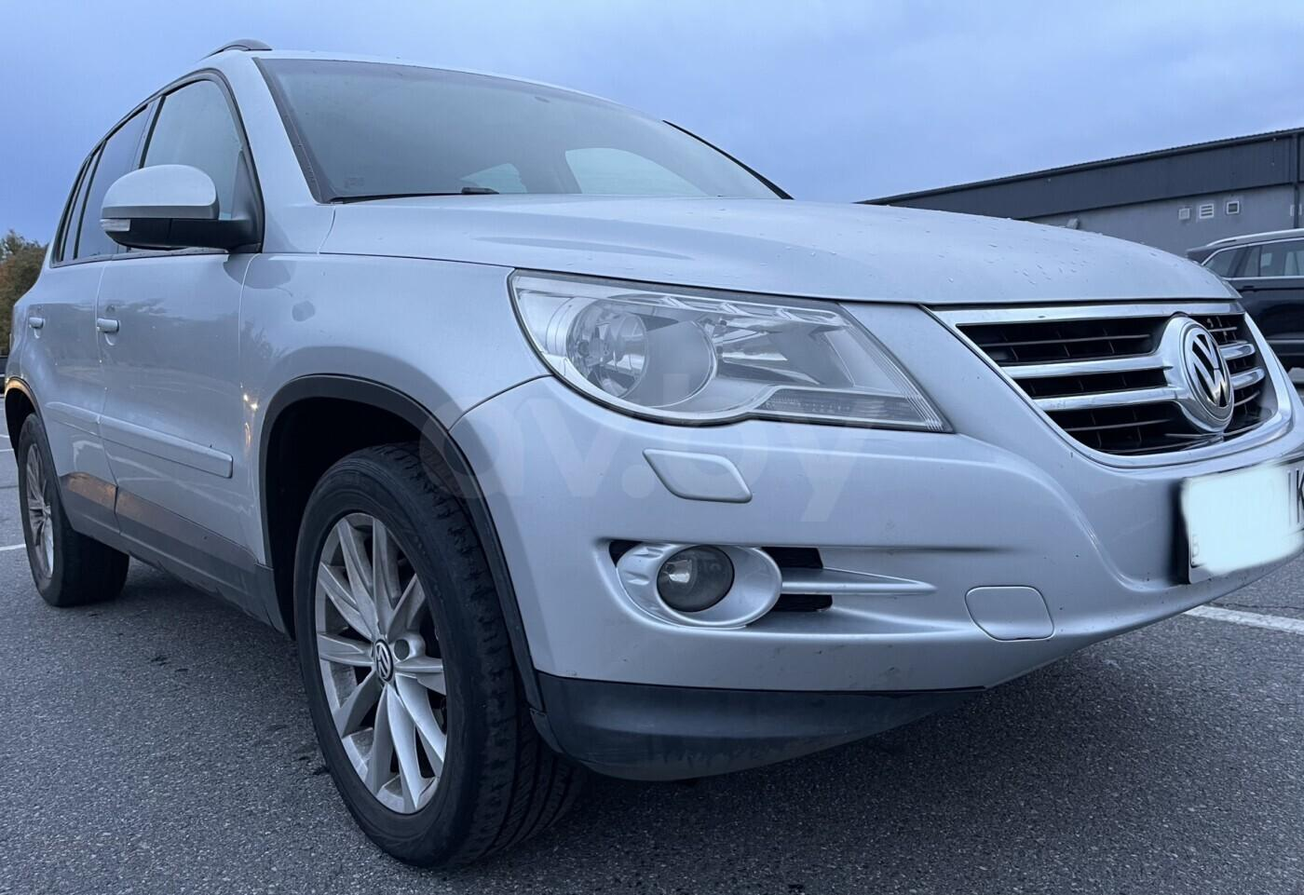Tiguan_2007-2011: (0, 43, 1304, 875)
